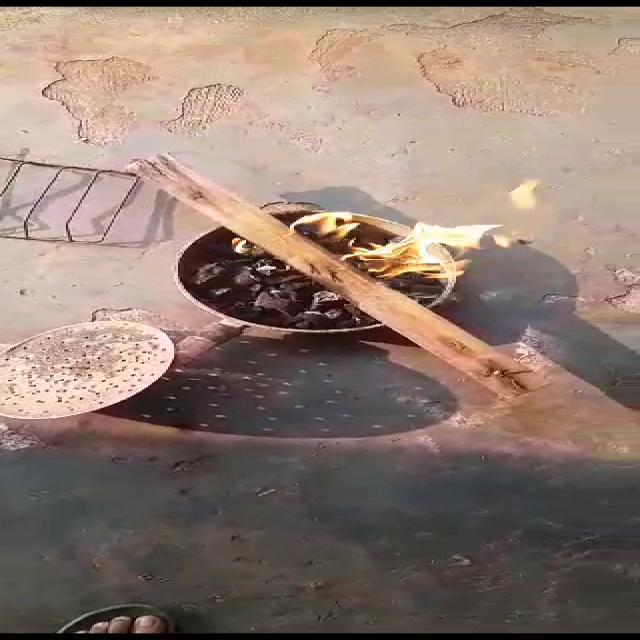Fire: (263, 168, 554, 304)
